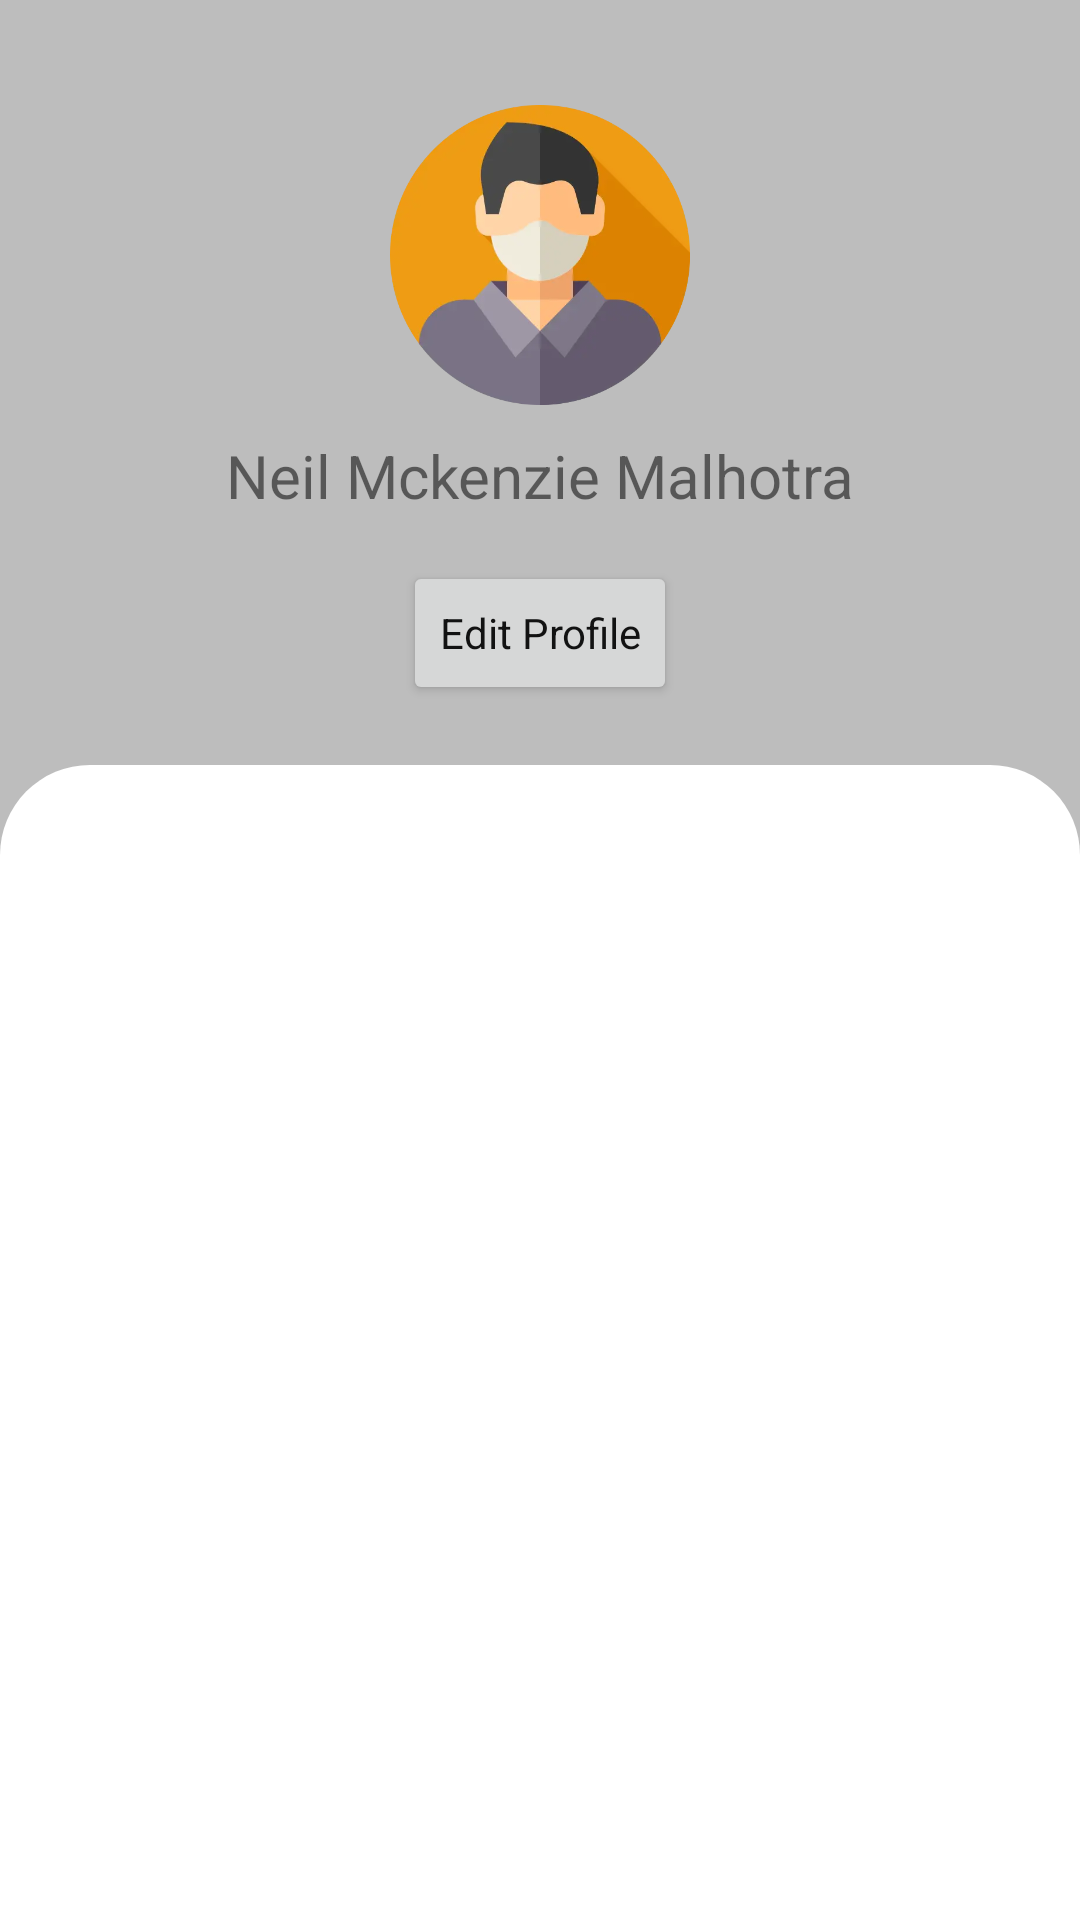

Locate icon controls on the screen. Image size 1080×1920, boxes as (x1,y1,x2,y2).
profile: (390,105,690,405)
